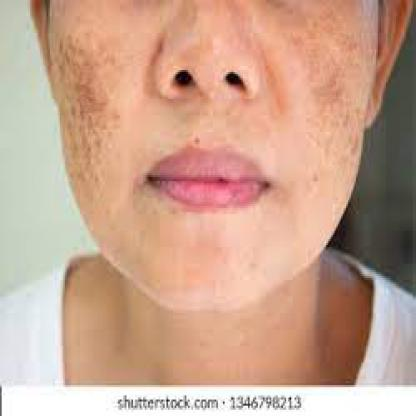darkspot: (318, 0, 414, 194), (57, 20, 144, 176)
